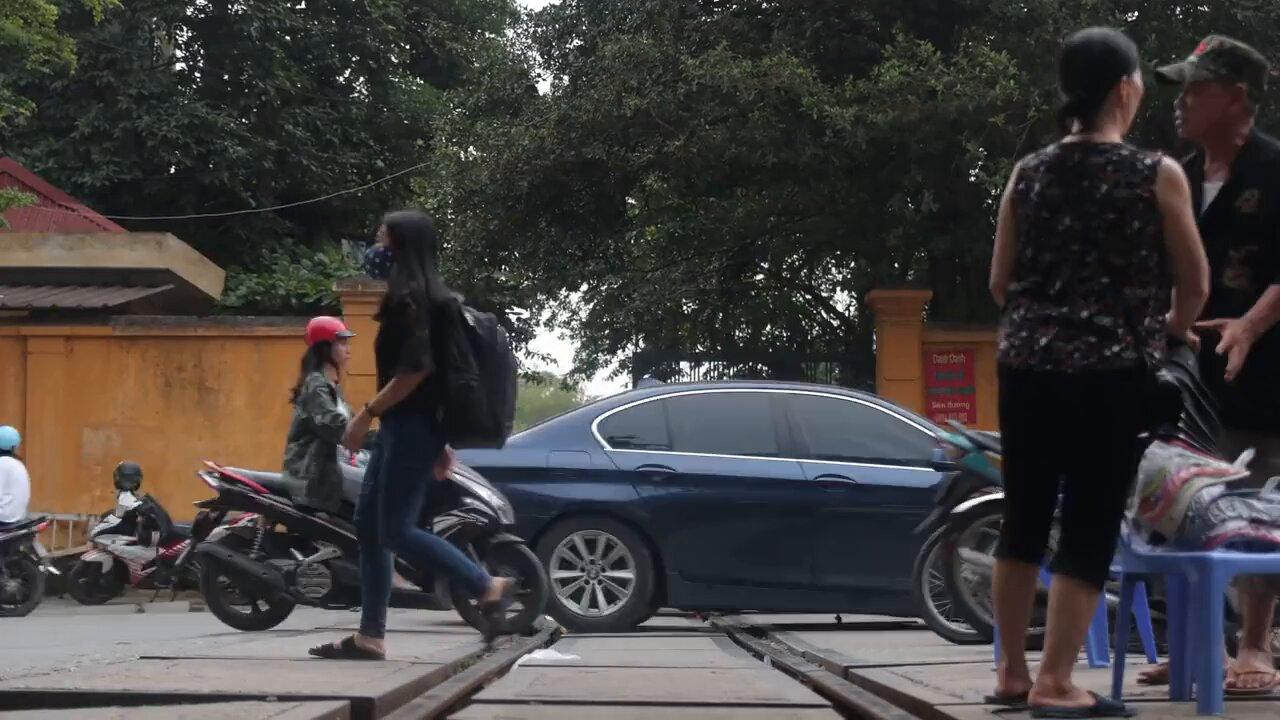driver: (173, 316, 550, 634)
helmet: (304, 317, 357, 367)
no-helmet: (1156, 34, 1272, 140), (1057, 26, 1145, 135), (364, 210, 438, 282)
